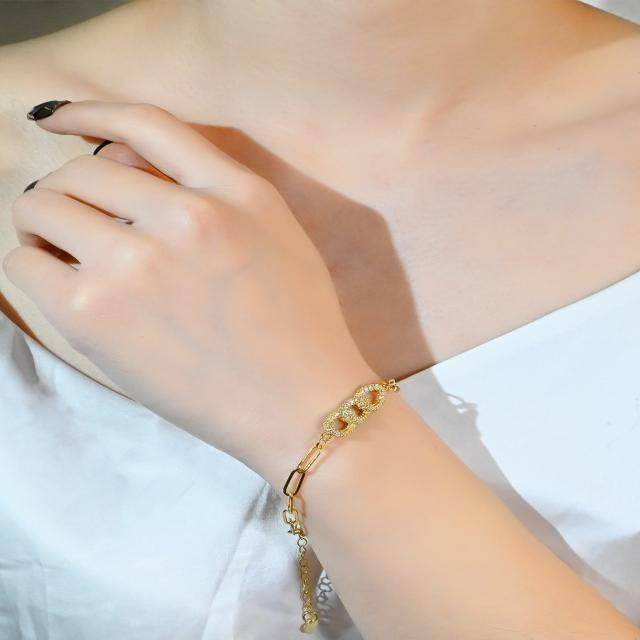bracelet: (155, 341, 481, 630)
